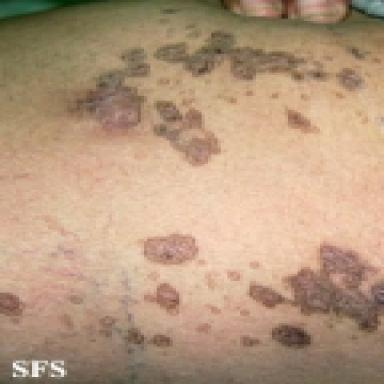Porokeratosis: (155, 31, 363, 90), (250, 245, 383, 332), (74, 49, 150, 128), (155, 101, 220, 165), (145, 235, 198, 263), (145, 283, 179, 314), (273, 325, 311, 347), (286, 109, 319, 133), (0, 293, 24, 324), (231, 305, 254, 321), (99, 316, 116, 337), (346, 47, 370, 60), (126, 328, 145, 344), (204, 271, 219, 290), (58, 313, 74, 330), (241, 335, 260, 347), (186, 23, 201, 38), (153, 335, 171, 347), (68, 292, 84, 304), (196, 323, 211, 333), (206, 305, 221, 314), (161, 7, 180, 14), (228, 271, 241, 281), (248, 260, 262, 269), (148, 271, 160, 281), (157, 77, 170, 85), (228, 96, 238, 104), (335, 91, 344, 99), (197, 259, 207, 266), (159, 18, 170, 24), (244, 89, 253, 96), (270, 92, 279, 99), (300, 93, 309, 100)
